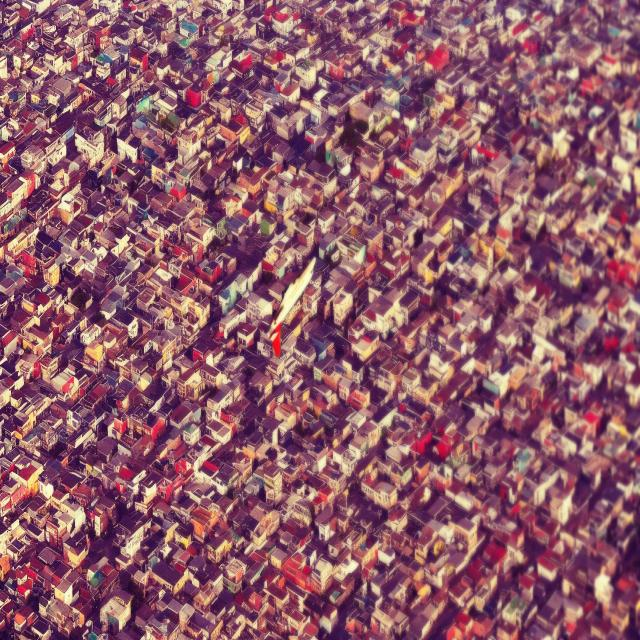airplane: (266, 256, 317, 356)
